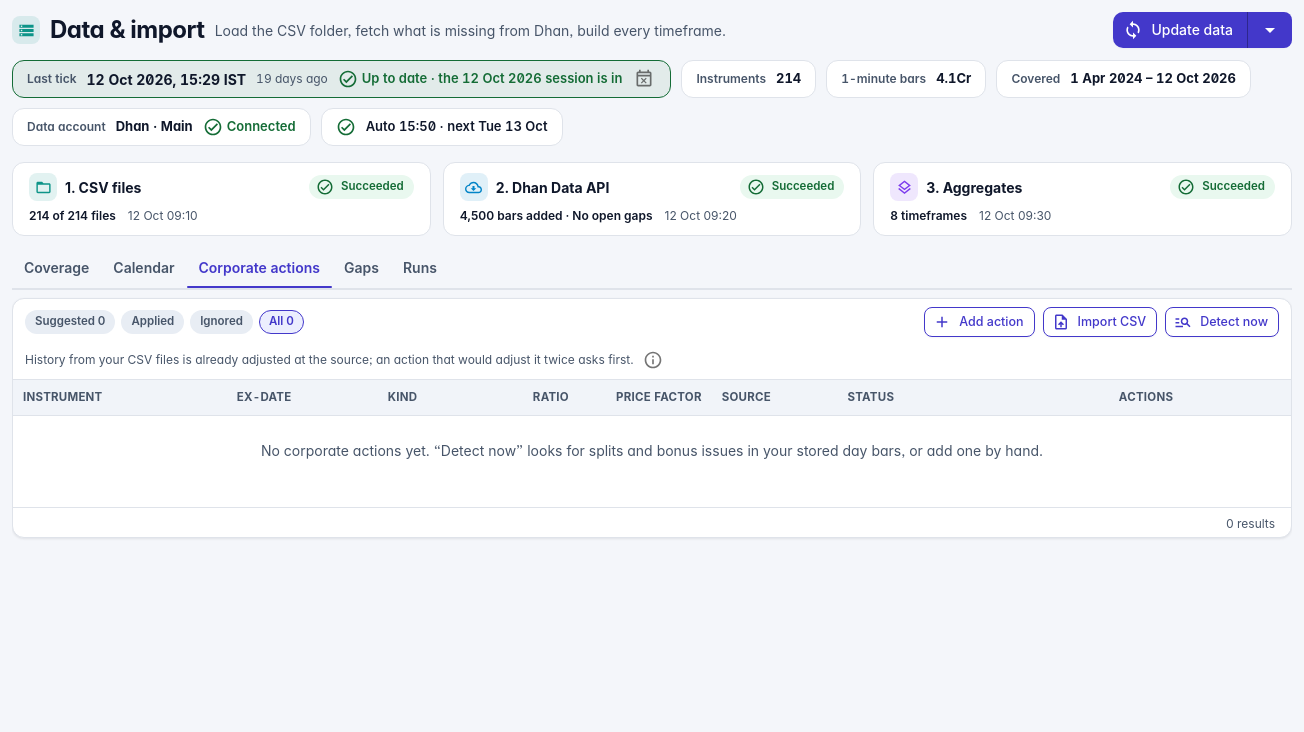
Test: Data & import: the screen follows what a run found › shows the suggested actions a run produced as soon as it ends, on the open Corporate actions tab
Expected: the text "No corporate actions yet." is shown, [261,442,1043,459]
Expected: the text "NSE:INFY" is not shown
Click the button "Update data" at (1181, 30), box [1113,12,1248,48]
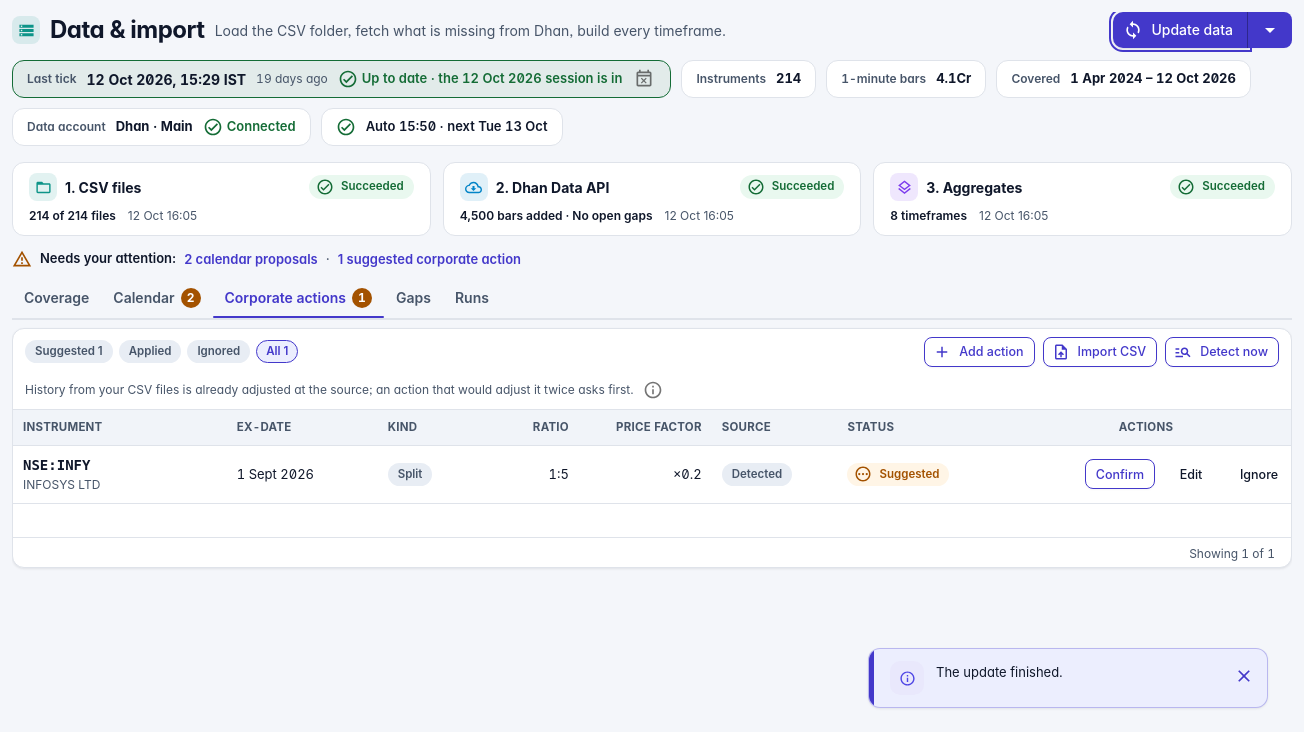
Now the text "NSE:INFY" is shown, box [23,457,90,473]
Now the tab with aria-label "Corporate actions, 1 suggested" is shown, box [212,278,384,318]
Now the button "Suggested 1" is shown, box [25,340,113,363]
